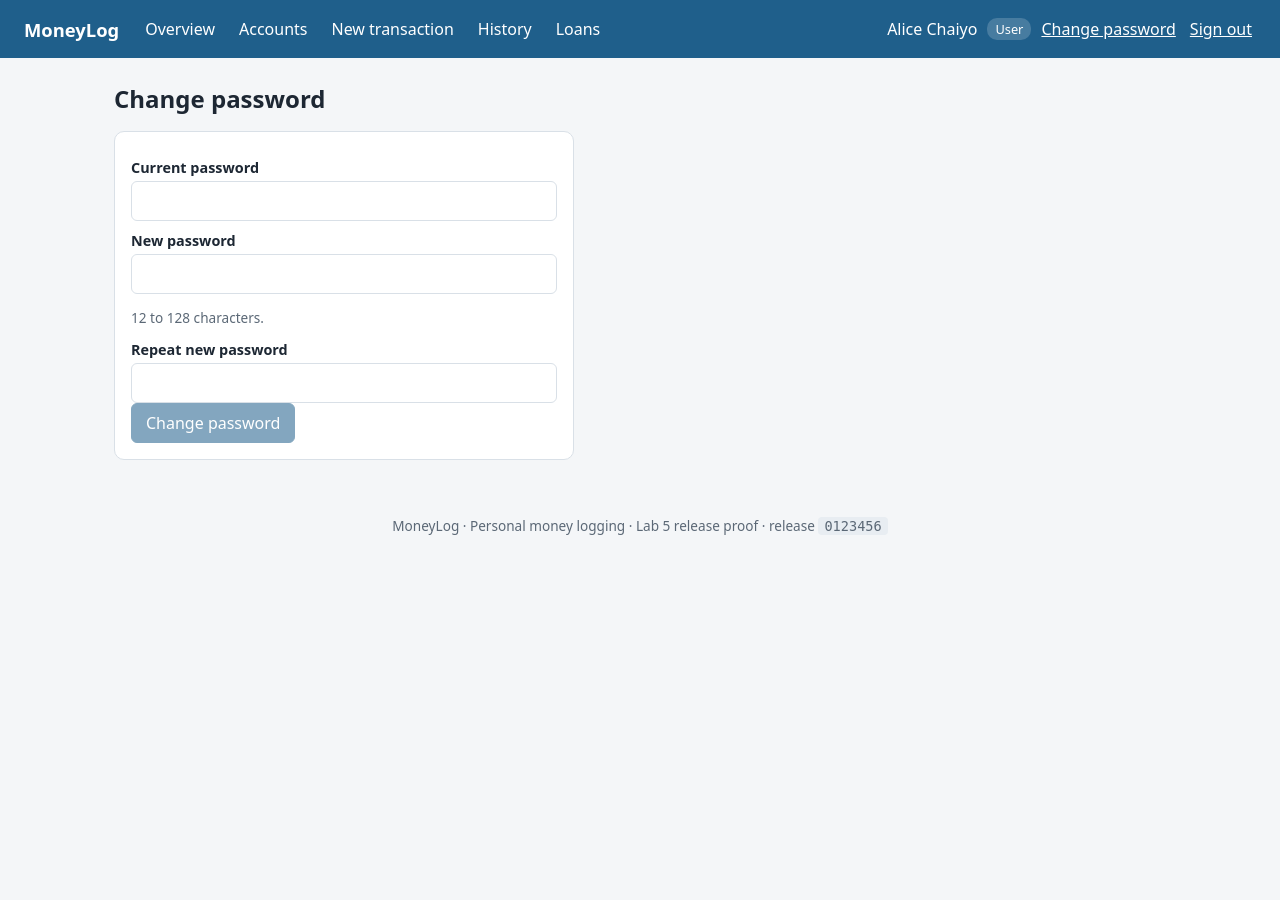
TEST-98 change password page (AC-80) › shows a server field error, then the success message
In the password field labelled "Current password": (344, 201) [131,181,557,221], type "Wrong-Pass-2026"
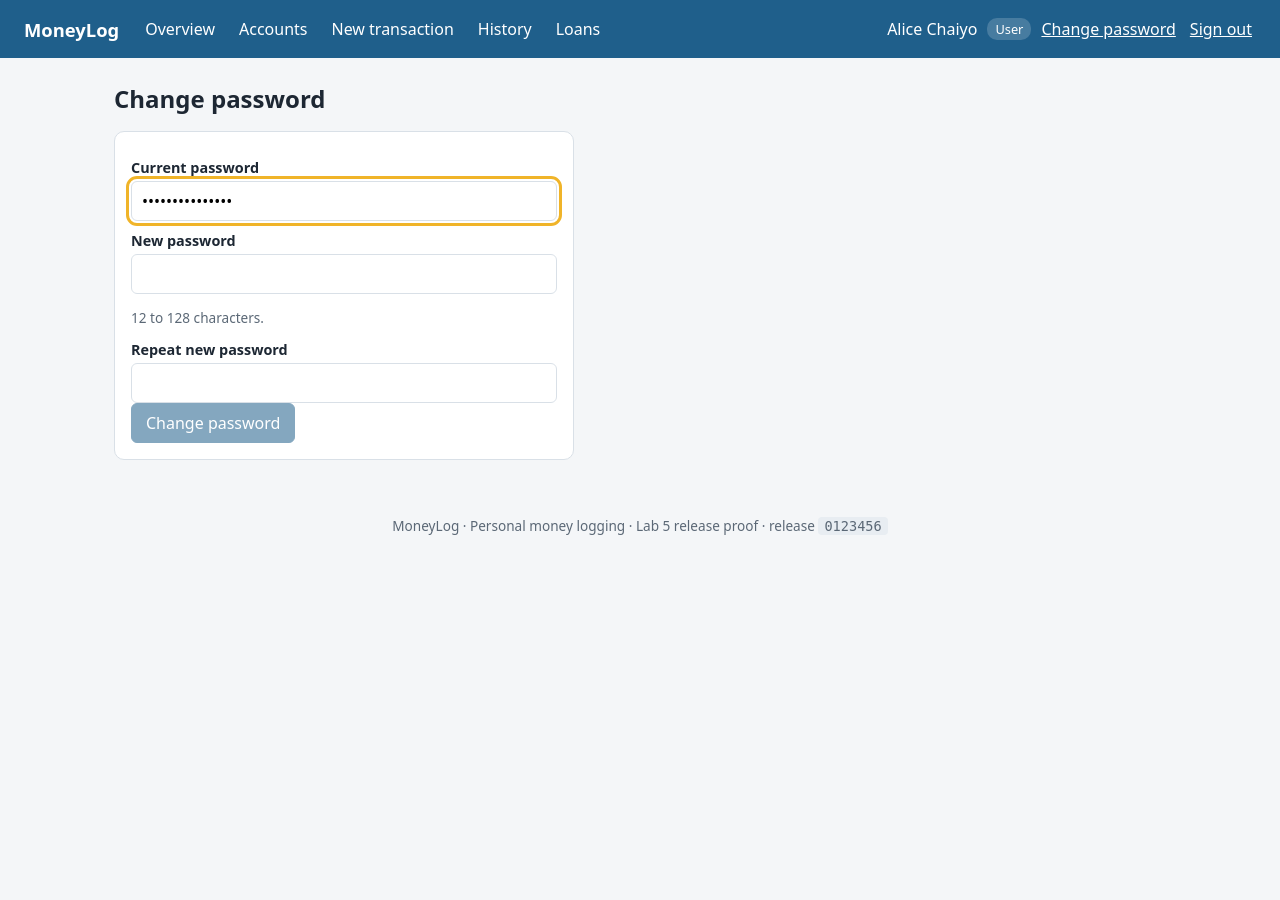
In the password field labelled "New password": (344, 274) [131,254,557,294], type "Brand-New-Pass-2026"
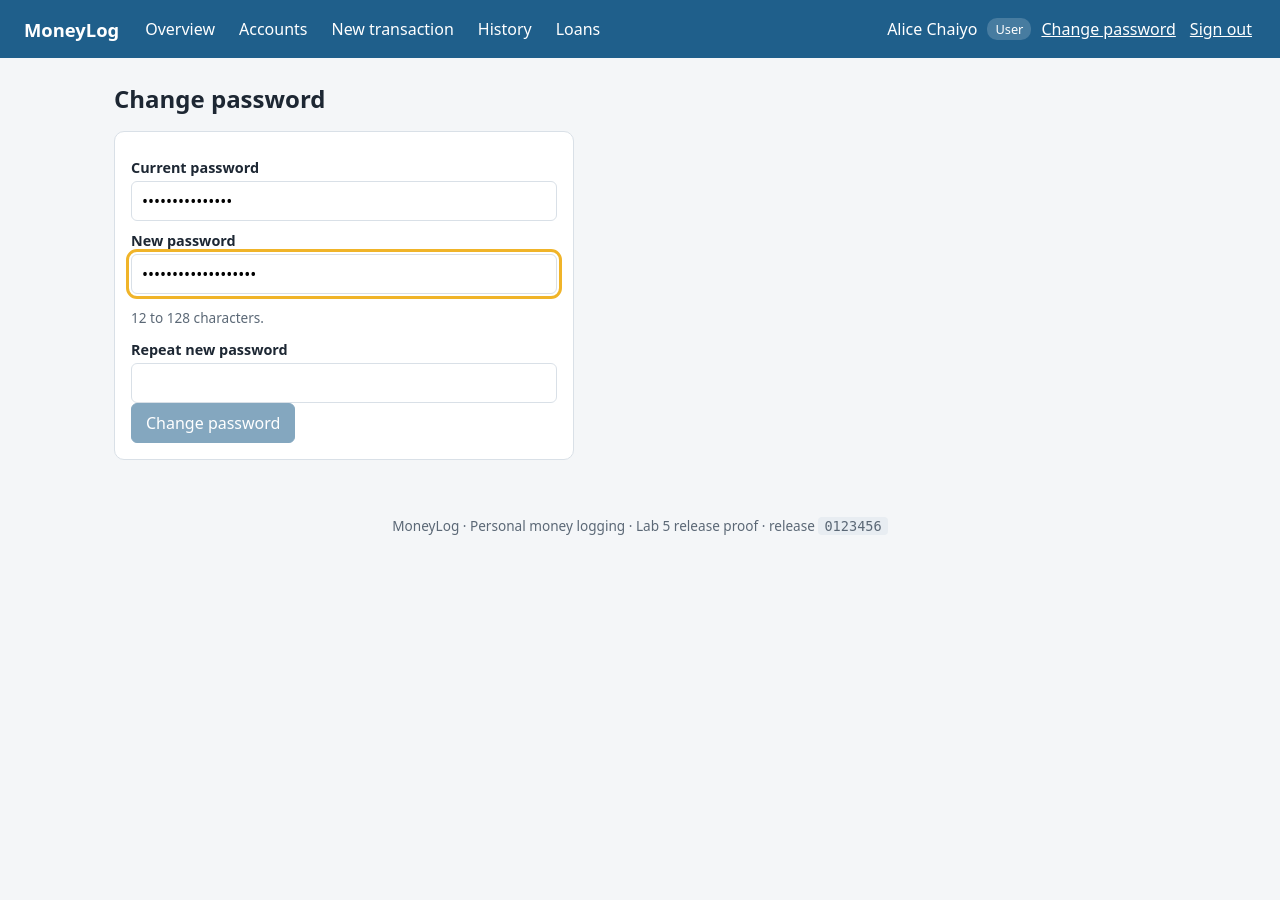
In the password field labelled "Repeat new password": (344, 383) [131,363,557,403], type "Brand-New-Pass-2026"
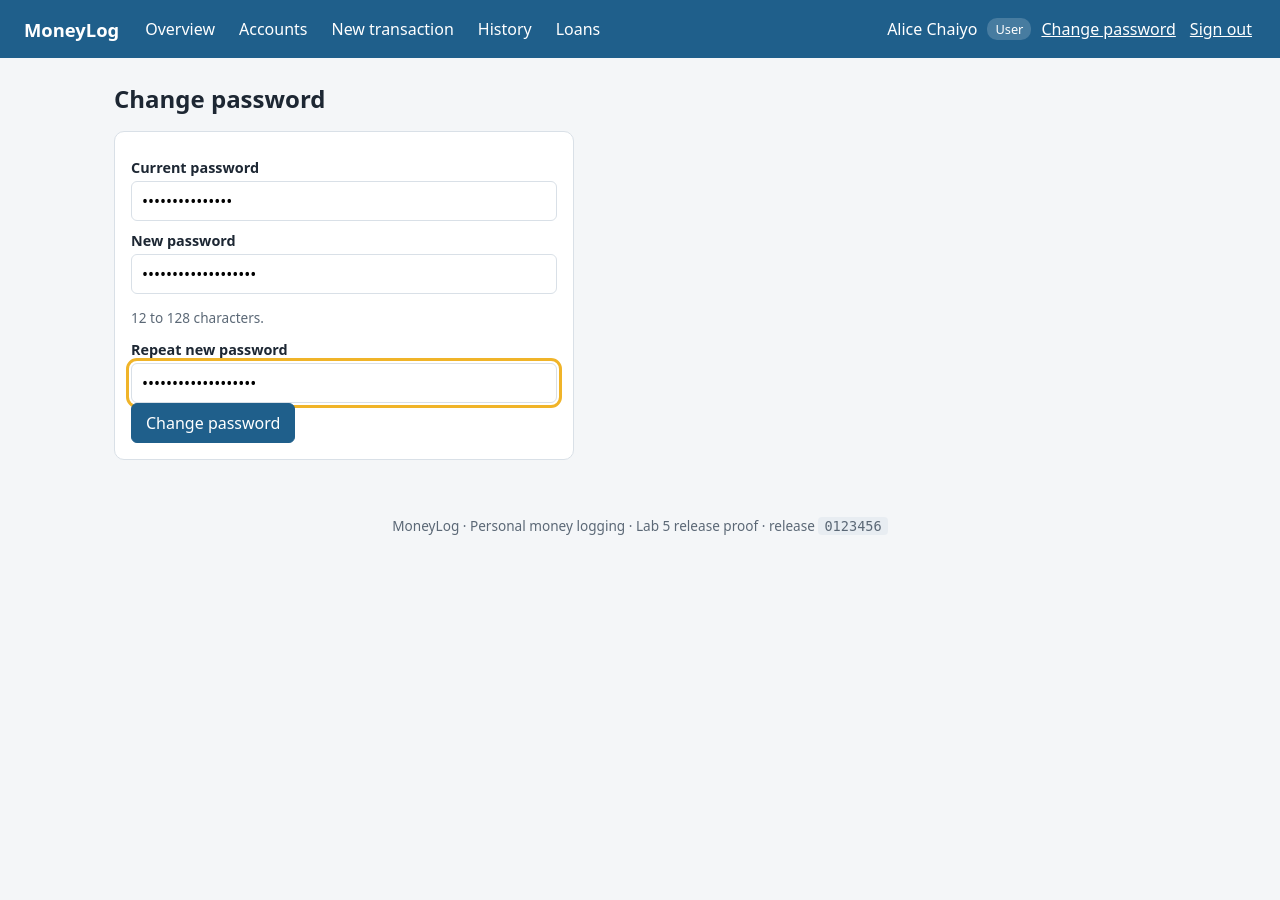
Click the button "Change password": (213, 423) [131,403,295,443]
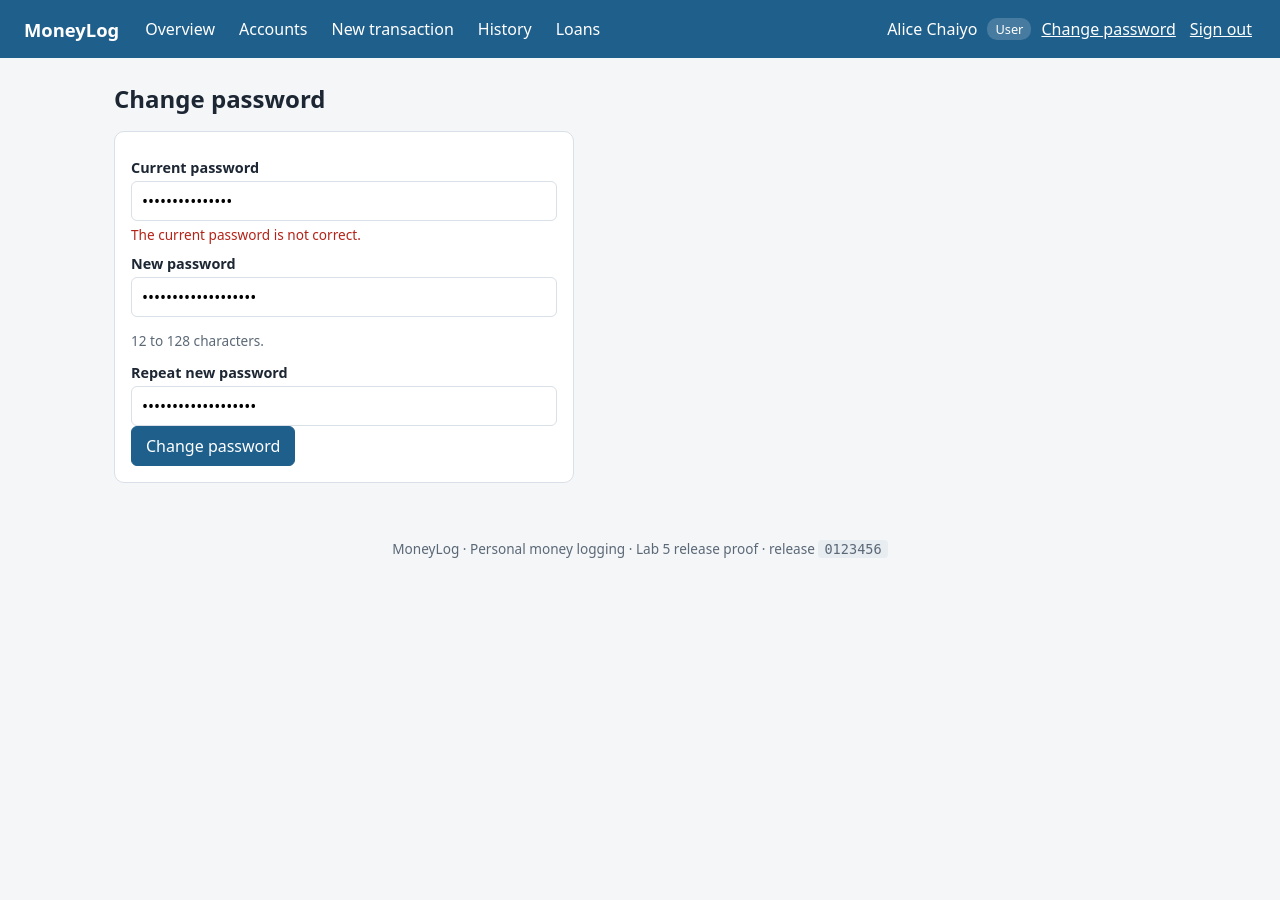
Check: the text "The current password is not correct." is shown, box [131,225,361,244]
In the password field labelled "Current password": (344, 201) [131,181,557,221], type "Old-Pass-2026!"
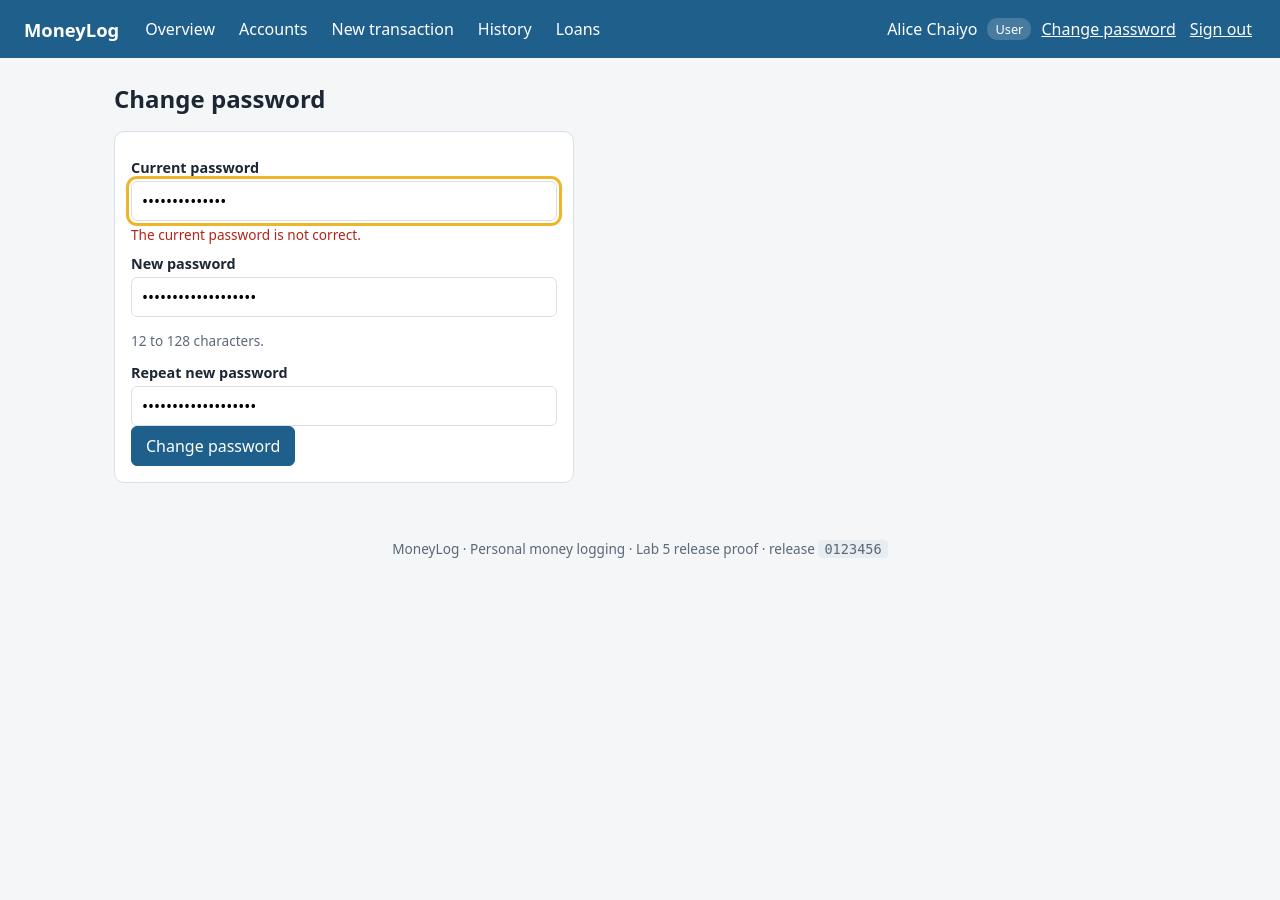
Click the button "Change password": (213, 446) [131,426,295,466]
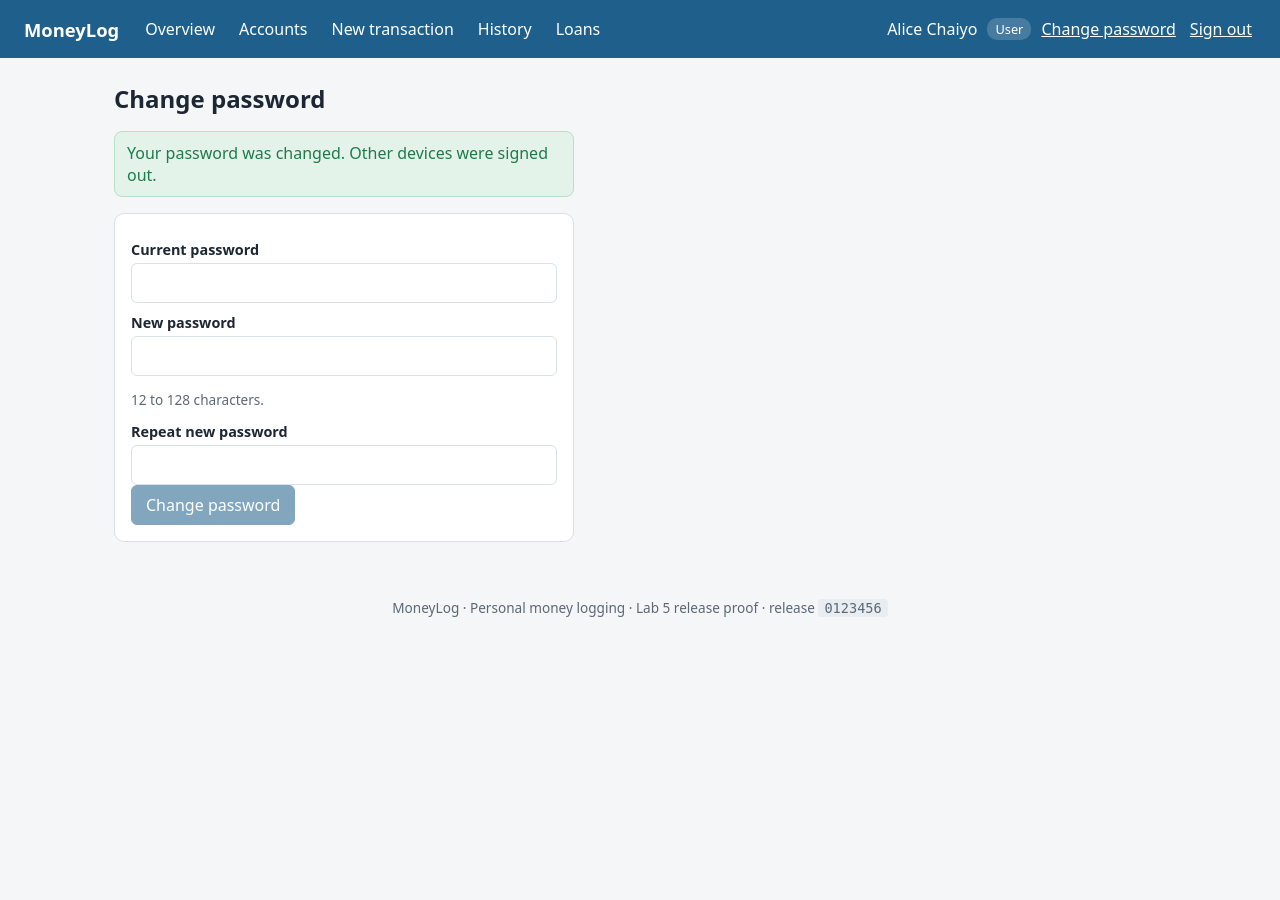
Check: the text "Your password was changed. Other devices were signed out." is shown, box [114,131,574,197]
